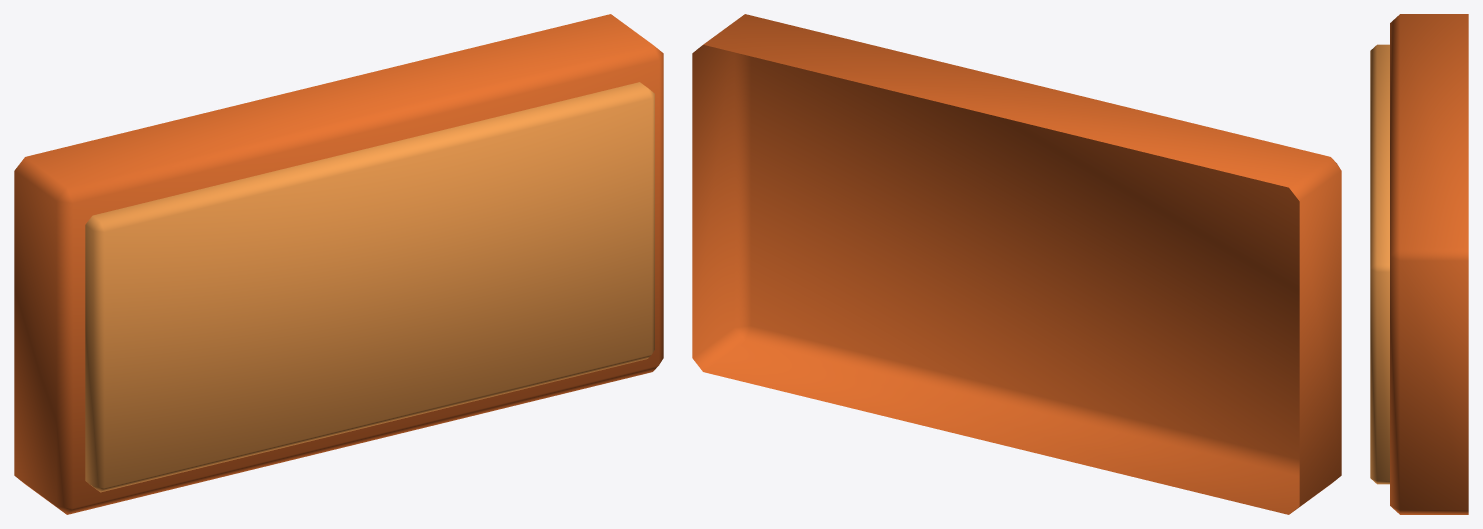
The model's file is ElectricBox_2_E_2.fbx.
3 views of the same model, side by side, from view 1: azimuth 30°, elevation 25°; view 2: azimuth 150°, elevation 25°; view 3: azimuth 270°, elevation 25° (orthographic). The views are drawn at different scales.
Visible parts, largest first — view 1: ElectricBox_2_E_2; view 2: ElectricBox_2_E_2; view 3: ElectricBox_2_E_2.
Boxes of the visible parts, left/top/right/bottom form: ElectricBox_2_E_2: left=14, top=14, right=663, bottom=514; ElectricBox_2_E_2: left=692, top=14, right=1341, bottom=514; ElectricBox_2_E_2: left=1370, top=14, right=1468, bottom=514.
Bounding box in the file's own units: 88.15 × 45.42 × 15.17.
